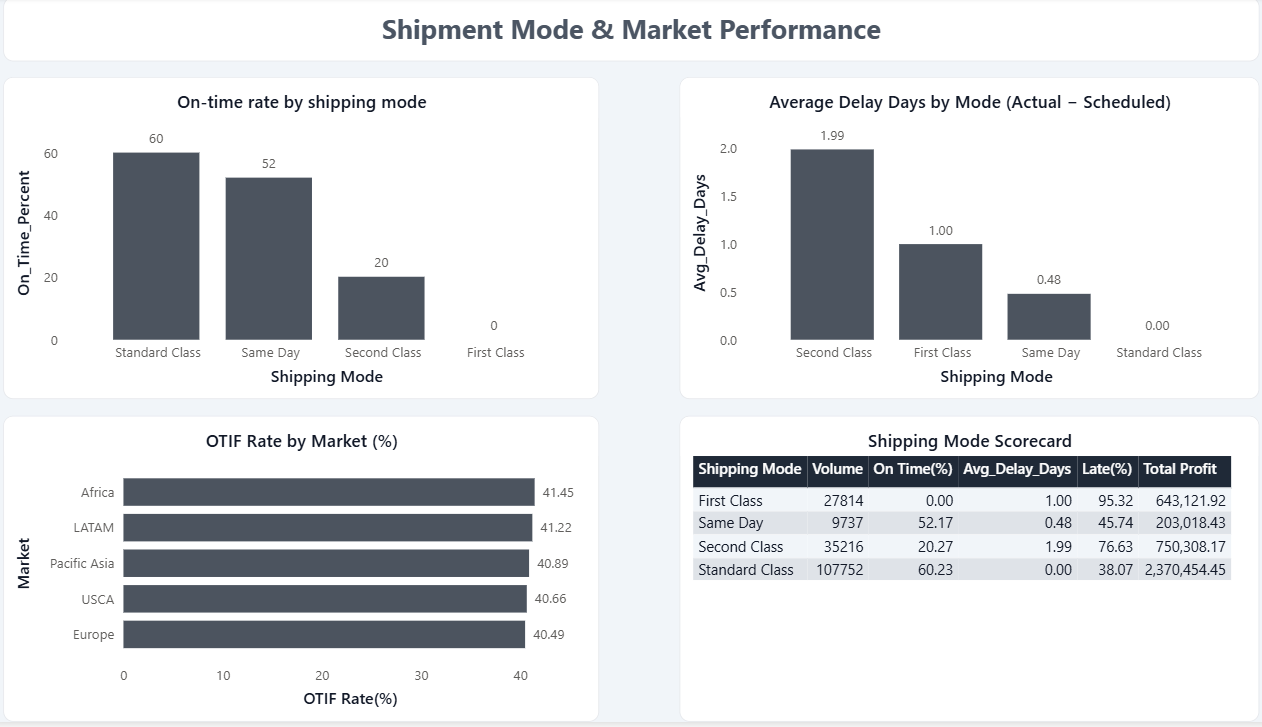

What the dashboard file says about the page in this screenshot:
{"tool":"powerbi","page":{"name":"Mode & Market","canvas":[1280,720],"ordinal":1},"visuals":[{"type":"clusteredColumnChart","title":"On-time rate by shipping mode","fields":{"Category":["supply_chain vw_shipping_mode_scorecard.shipping_mode_name"],"Y":["Sum(supply_chain vw_shipping_mode_scorecard.on_time_pct)"]},"box":[16,80,592,320],"z":0},{"type":"clusteredColumnChart","title":"Average Delay Days by Mode (Actual − Scheduled)","fields":{"Category":["supply_chain vw_shipping_mode_scorecard.shipping_mode_name"],"Y":["Sum(supply_chain vw_shipping_mode_scorecard.avg_delay_days)"]},"box":[688,80,576,320],"z":1000},{"type":"clusteredBarChart","title":"OTIF Rate by Market (%)","fields":{"Category":["supply_chain vw_market_performance.market"],"Y":["Sum(supply_chain vw_market_performance.otif_rate_pct)"]},"box":[16,416,592,304],"z":2000},{"type":"tableEx","title":"Shipping Mode Scorecard","fields":{"Values":["supply_chain vw_shipping_mode_scorecard.shipping_mode_name","Sum(supply_chain vw_shipping_mode_scorecard.volume)","Sum(supply_chain vw_shipping_mode_scorecard.on_time_pct)","Sum(supply_chain vw_shipping_mode_scorecard.avg_delay_days)","Sum(supply_chain vw_shipping_mode_scorecard.late_pct)","Sum(supply_chain vw_shipping_mode_scorecard.total_profit)"]},"box":[688,416,576,304],"z":3000},{"type":"textbox","box":[16,0,1248,64],"z":4000}]}

Visuals, with their boxes in screenshot pixels (x1, y1, x2, y2), scaled from the page's 1280x720 canvas onto the 1262x727 screenshot:
"On-time rate by shipping mode" clusteredColumnChart: <bbox>16, 81, 599, 404</bbox>
"Average Delay Days by Mode (Actual − Scheduled)" clusteredColumnChart: <bbox>678, 81, 1246, 404</bbox>
"OTIF Rate by Market (%)" clusteredBarChart: <bbox>16, 420, 599, 726</bbox>
"Shipping Mode Scorecard" tableEx: <bbox>678, 420, 1246, 726</bbox>
textbox: <bbox>16, 0, 1246, 65</bbox>
